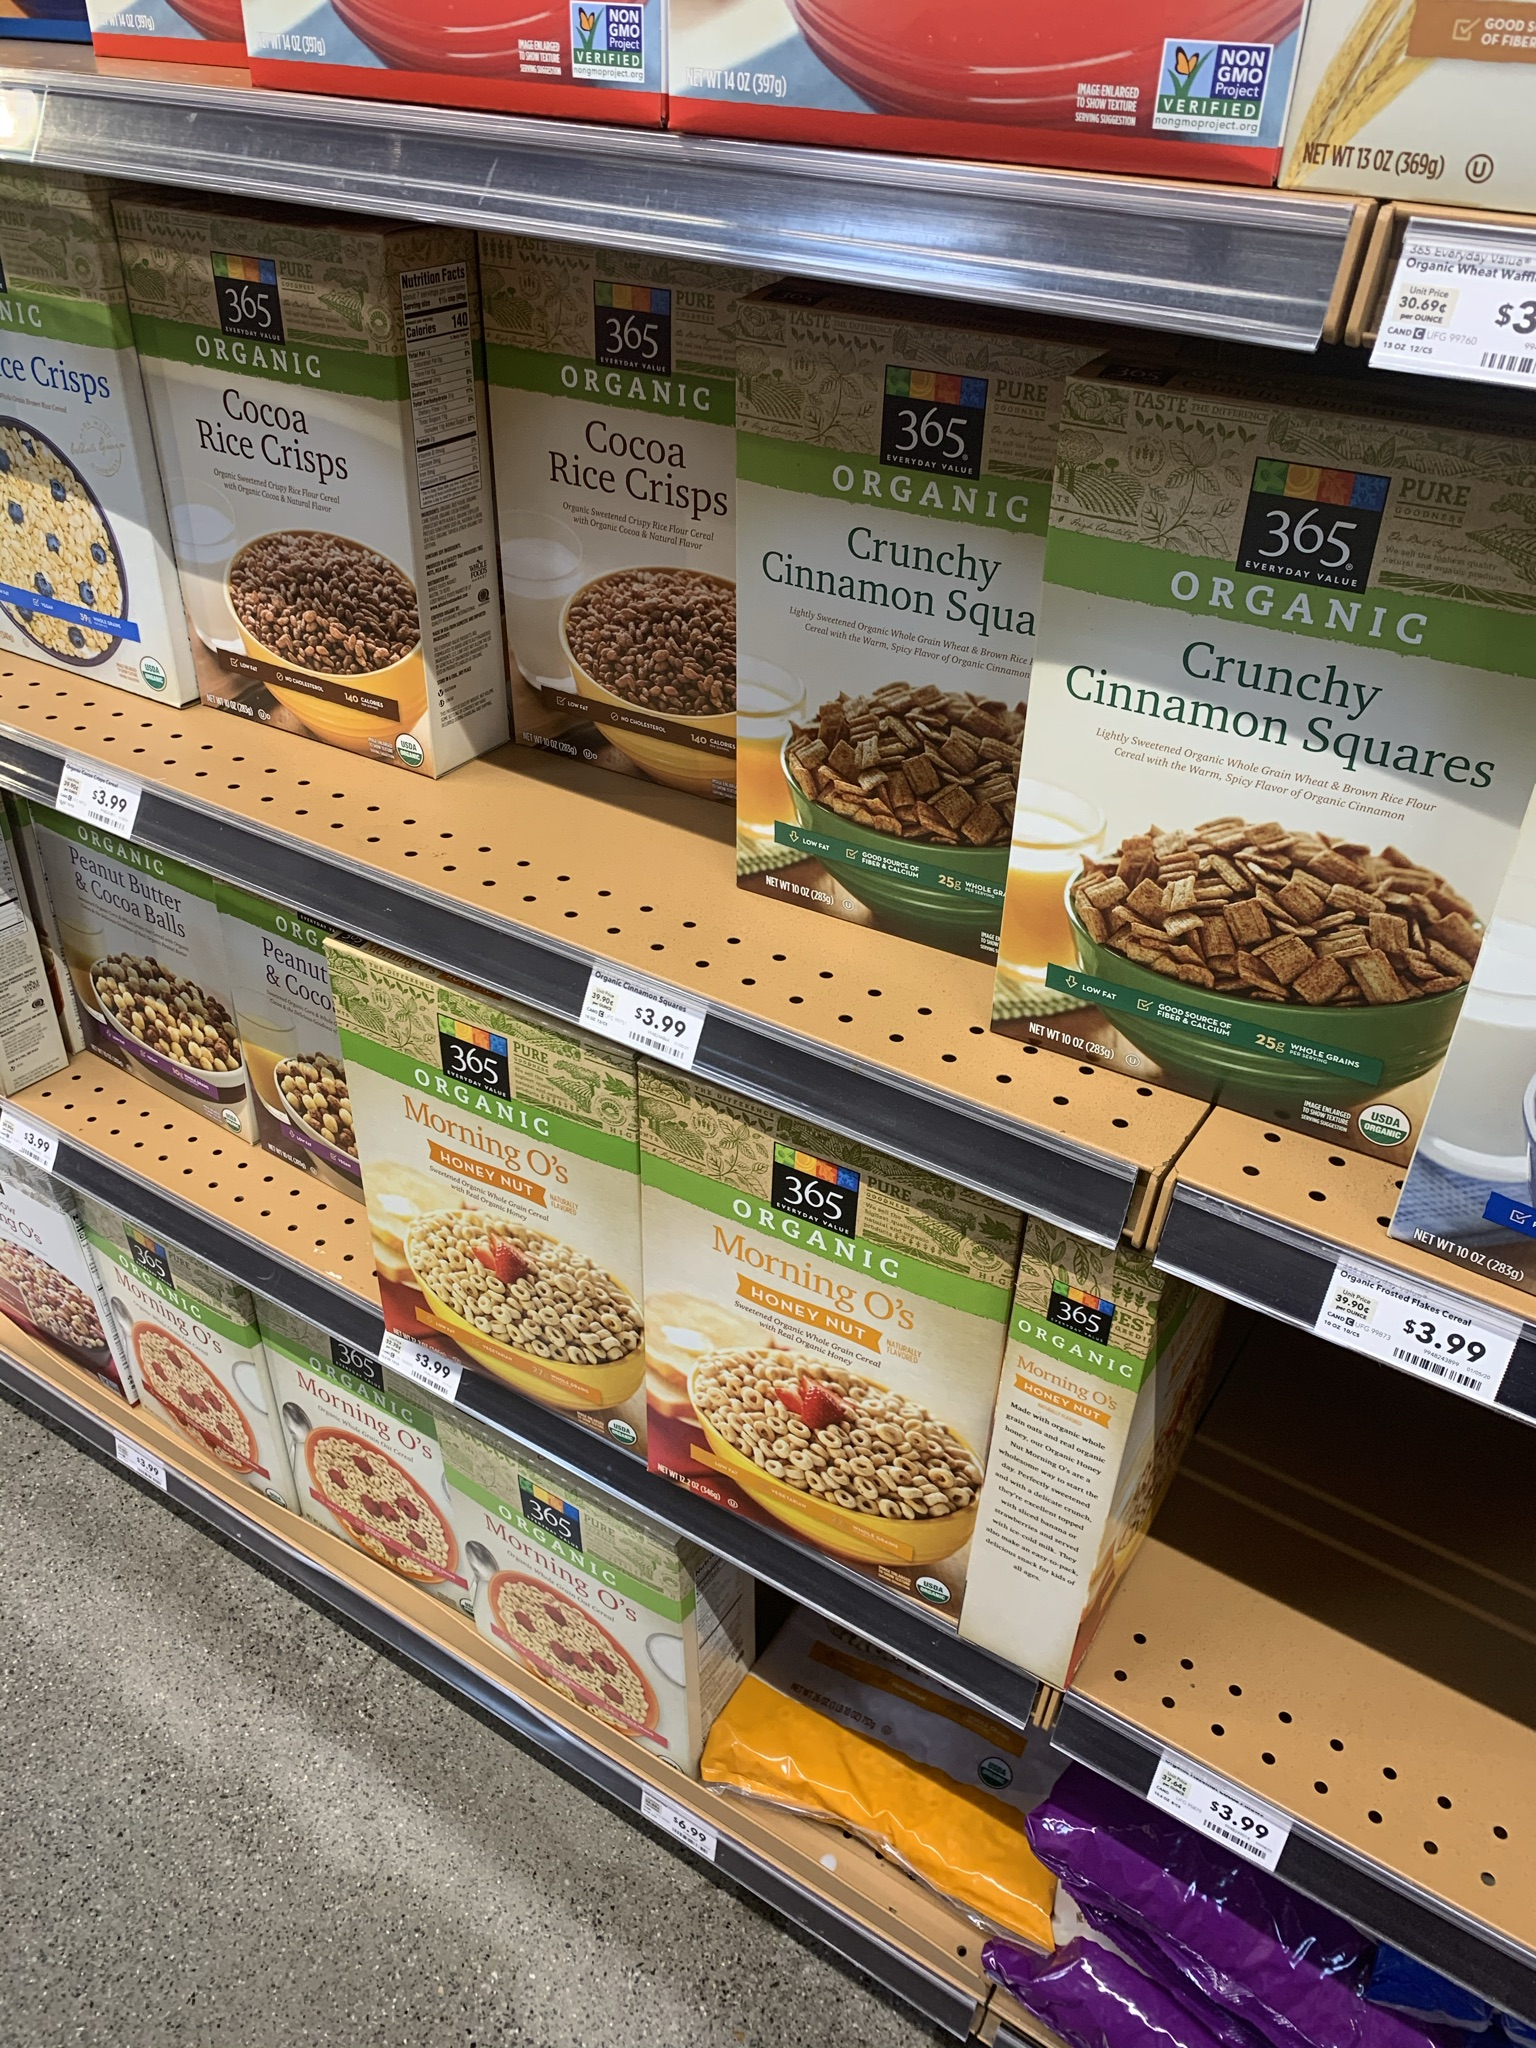box: (1055, 539, 1457, 1035), (744, 387, 1008, 880), (173, 255, 434, 718), (674, 1200, 978, 1467), (523, 352, 729, 743), (376, 1074, 637, 1300), (471, 1540, 674, 1646), (86, 880, 203, 1051), (111, 1288, 255, 1405), (302, 1405, 444, 1519)
